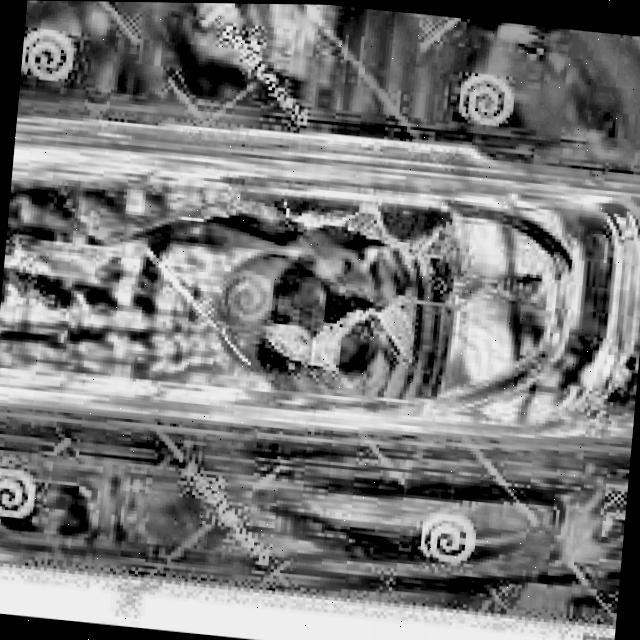tail_lamp: (174, 189, 558, 423)
